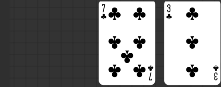7C: (147, 64, 155, 82)
